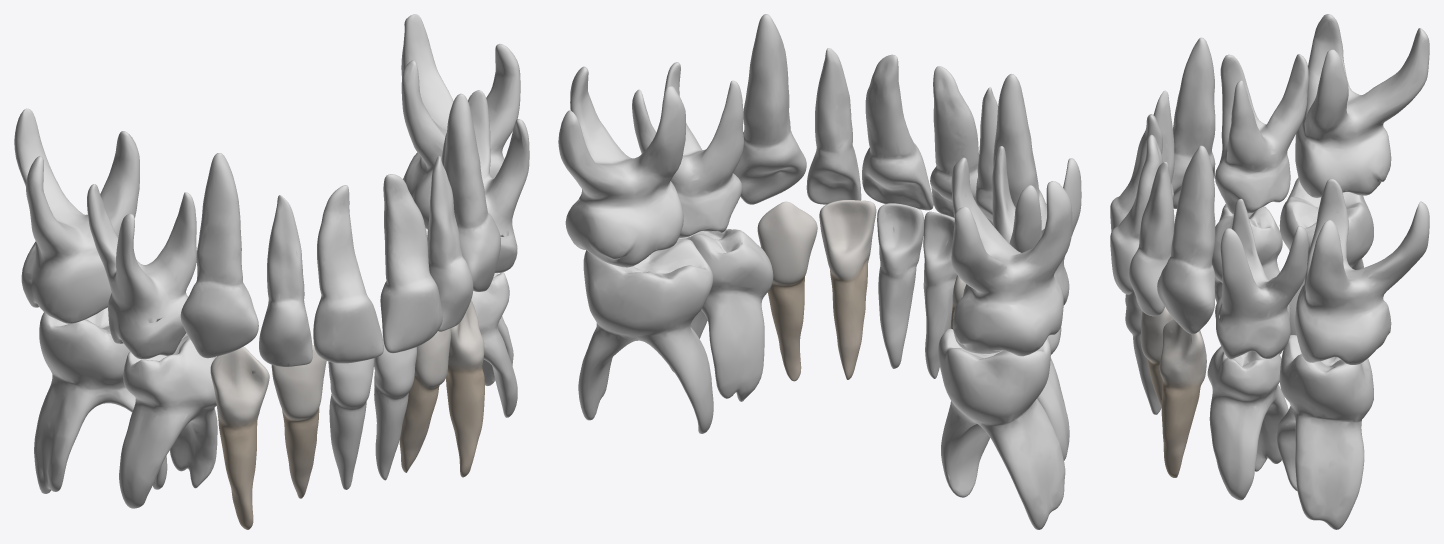
Rendered from teeth_primary.glb.
3 renders of one model, left to right at view 1: azimuth 30°, elevation 25°; view 2: azimuth 150°, elevation 25°; view 3: azimuth 270°, elevation 25°, orthographic. The views are drawn at different scales.
Visible parts, largest first — view 1: T55, T84, T54, T85, T53, T65, T51, T61, T83, T52, T63, T64 (+8 smaller); view 2: T65, T85, T55, T75, T74, T63, T64, T61, T72, T73, T62, T71 (+6 smaller); view 3: T55, T75, T65, T54, T64, T74, T63, T73, T53, T62, T85, T61 (+5 smaller).
Boxes of the visible parts, left/top/right/bottom form: T55: left=14, top=108, right=139, bottom=323; T84: left=119, top=333, right=217, bottom=508; T54: left=87, top=184, right=196, bottom=359; T85: left=34, top=307, right=167, bottom=493; T53: left=180, top=153, right=258, bottom=358; T65: left=401, top=14, right=520, bottom=229; T51: left=313, top=185, right=383, bottom=363; T61: left=380, top=174, right=442, bottom=353; T83: left=210, top=346, right=269, bottom=529; T52: left=259, top=195, right=312, bottom=366; T63: left=443, top=93, right=500, bottom=291; T64: left=441, top=90, right=529, bottom=272; T65: left=558, top=66, right=685, bottom=267; T85: left=938, top=328, right=1065, bottom=529; T55: left=951, top=157, right=1072, bottom=356; T75: left=578, top=238, right=713, bottom=433; T74: left=669, top=229, right=773, bottom=401; T63: left=733, top=14, right=806, bottom=204; T64: left=632, top=62, right=743, bottom=237; T61: left=862, top=54, right=933, bottom=210; T72: left=819, top=200, right=876, bottom=379; T73: left=757, top=201, right=817, bottom=381; T62: left=806, top=48, right=861, bottom=204; T71: left=877, top=203, right=924, bottom=368; T55: left=1295, top=14, right=1429, bottom=197; T75: left=1276, top=335, right=1373, bottom=529; T65: left=1295, top=178, right=1429, bottom=364; T54: left=1215, top=54, right=1308, bottom=214; T64: left=1215, top=199, right=1308, bottom=359; T74: left=1207, top=346, right=1288, bottom=500; T63: left=1157, top=145, right=1215, bottom=334; T73: left=1159, top=319, right=1206, bottom=477; T53: left=1172, top=37, right=1215, bottom=208; T62: left=1129, top=162, right=1174, bottom=316; T85: left=1279, top=177, right=1373, bottom=335; T61: left=1110, top=134, right=1162, bottom=294.
Size of the model in its own units: 49.57 by 36.15 by 30.57.
